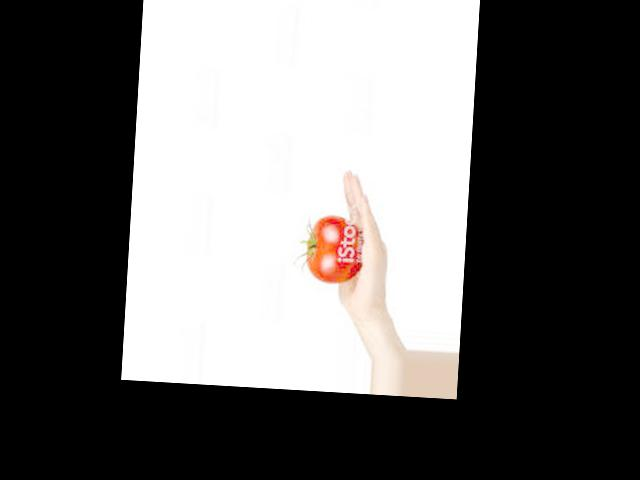tomato: (303, 215, 363, 285)
